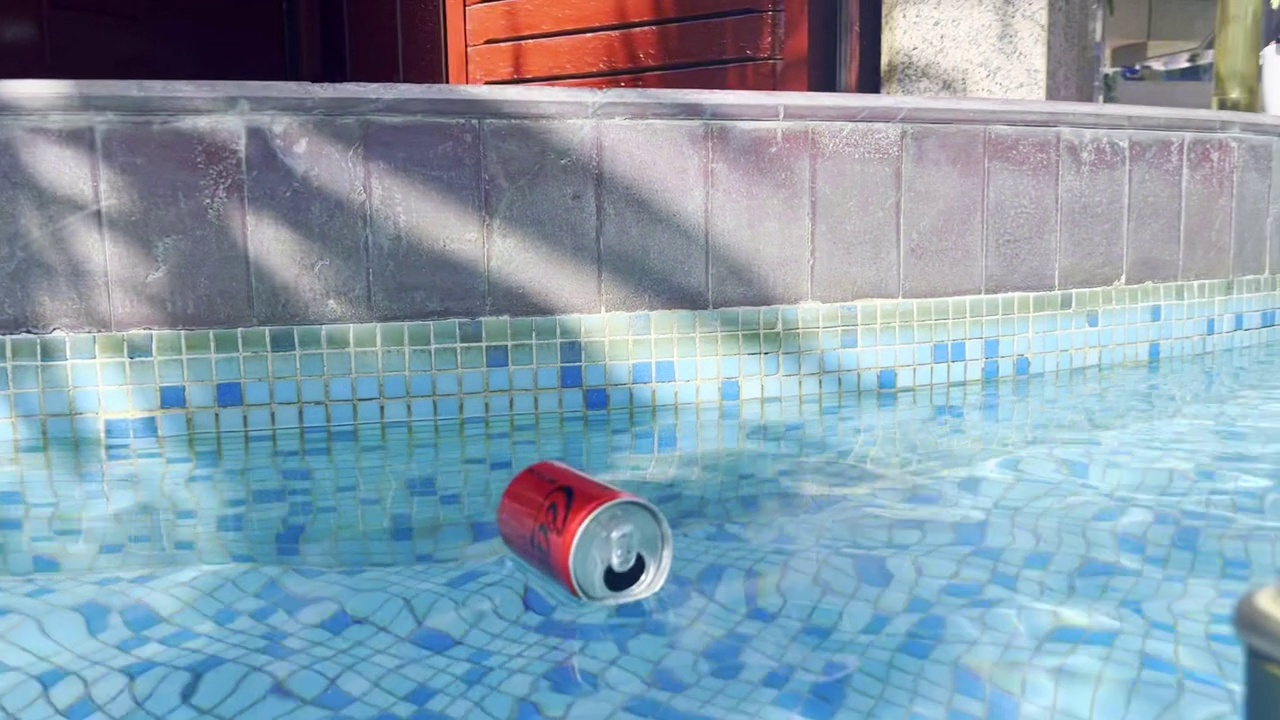debris: (478, 451, 678, 612)
